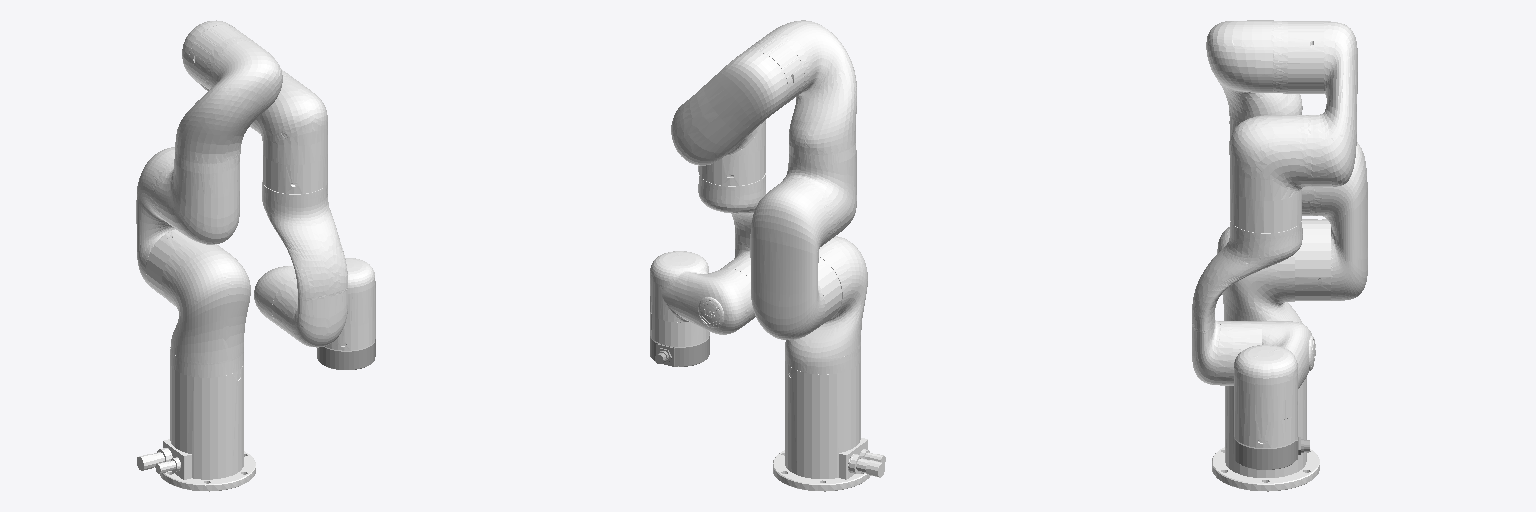
URDF robot description (xarm6):
<?xml version="1.0" encoding="utf-8"?>
<!-- =================================================================================== -->
<!-- |    This document was autogenerated by xacro from xarm6_robot.urdf.xacro         | -->
<!-- |    EDITING THIS FILE BY HAND IS NOT RECOMMENDED                                 | -->
<!-- =================================================================================== -->
<robot name="xarm6">
  <!--
  Author: Jason Peng <[email redacted]>
  Contributers:
-->
  <link name="world"/>
  <joint name="world_joint" type="fixed">
    <parent link="world"/>
    <child link="link_base"/>
    <origin rpy="0 0 0" xyz="0 0 0"/>
  </joint>
  <material name="Black">
    <color rgba="0.0 0.0 0.0 1.0"/>
  </material>
  <material name="Red">
    <color rgba="0.8 0.0 0.0 1.0"/>
  </material>
  <material name="White">
    <color rgba="1.0 1.0 1.0 1.0"/>
  </material>
  <material name="Silver">
    <color rgba="0.753 0.753 0.753 1.0"/>
  </material>
  <link name="link_base">
    <visual>
      <geometry>
        <mesh filename="visual/base.dae"/>
      </geometry>
      <origin rpy="0 0 0" xyz="0 0 0"/>
      <material name="White"/>
    </visual>
    <collision>
      <geometry>
        <mesh filename="collision/base.stl"/>
      </geometry>
      <origin rpy="0 0 0" xyz="0 0 0"/>
    </collision>
    <inertial>
      <origin rpy="0 0 0" xyz="0.0 0.0 0.09103"/>
      <mass value="2.7"/>
      <inertia ixx="0.00494875" ixy="-3.5E-06" ixz="1.25E-05" iyy="0.00494174" iyz="1.67E-06" izz="0.002219"/>
    </inertial>
  </link>
  <link name="link1">
    <visual>
      <geometry>
        <mesh filename="visual/link1.dae"/>
      </geometry>
      <origin rpy="0 0 0" xyz="0 0 0"/>
      <material name="White"/>
    </visual>
    <collision>
      <geometry>
        <mesh filename="collision/link1.stl"/>
      </geometry>
      <origin rpy="0 0 0" xyz="0 0 0"/>
    </collision>
    <inertial>
      <origin rpy="0 0 0" xyz="-0.002 0.02692 -0.01332"/>
      <mass value="2.16"/>
      <inertia ixx="0.00539427" ixy="1.095E-05" ixz="1.635E-06" iyy="0.0048979" iyz="0.000793" izz="0.00311573"/>
    </inertial>
  </link>
  <joint name="joint1" type="revolute">
    <parent link="link_base"/>
    <child link="link1"/>
    <origin rpy="0 0 0" xyz="0 0 0.267"/>
    <axis xyz="0 0 1"/>
    <limit effort="50.0" lower="-6.28318530718" upper="6.28318530718" velocity="3.14"/>
    <dynamics damping="1.0" friction="1.0"/>
  </joint>
  <link name="link2">
    <visual>
      <geometry>
        <mesh filename="visual/link2.dae"/>
      </geometry>
      <origin rpy="0 0 0" xyz="0 0 0"/>
      <material name="White"/>
    </visual>
    <collision>
      <geometry>
        <mesh filename="collision/link2.stl"/>
      </geometry>
      <origin rpy="0 0 0" xyz="0 0 0"/>
    </collision>
    <inertial>
      <origin rpy="0 0 0" xyz="0.03531 -0.21398 0.03386"/>
      <mass value="1.71"/>
      <inertia ixx="0.0248674" ixy="-0.00430651" ixz="-0.00067797" iyy="0.00485548" iyz="0.00457245" izz="0.02387827"/>
    </inertial>
  </link>
  <joint name="joint2" type="revolute">
    <parent link="link1"/>
    <child link="link2"/>
    <origin rpy="-1.5708 0 0" xyz="0 0 0"/>
    <axis xyz="0 0 1"/>
    <limit effort="50.0" lower="-2.059" upper="2.0944" velocity="3.14"/>
    <dynamics damping="1.0" friction="1.0"/>
  </joint>
  <link name="link3">
    <visual>
      <geometry>
        <mesh filename="visual/link3.dae"/>
      </geometry>
      <origin rpy="0 0 0" xyz="0 0 0"/>
      <material name="White"/>
    </visual>
    <collision>
      <geometry>
        <mesh filename="collision/link3.stl"/>
      </geometry>
      <origin rpy="0 0 0" xyz="0 0 0"/>
    </collision>
    <inertial>
      <origin rpy="0 0 0" xyz="0.06781 0.10749 0.01457"/>
      <mass value="1.384"/>
      <inertia ixx="0.0053694" ixy="0.0014185" ixz="-0.00092094" iyy="0.0032423" iyz="-0.00169178" izz="0.00501731"/>
    </inertial>
  </link>
  <joint name="joint3" type="revolute">
    <parent link="link2"/>
    <child link="link3"/>
    <origin rpy="0 0 0" xyz="0.0535 -0.2845 0"/>
    <axis xyz="0 0 1"/>
    <limit effort="32.0" lower="-3.927" upper="0.19198" velocity="3.14"/>
    <dynamics damping="1.0" friction="1.0"/>
  </joint>
  <link name="link4">
    <visual>
      <geometry>
        <mesh filename="visual/link4.dae"/>
      </geometry>
      <origin rpy="0 0 0" xyz="0 0 0"/>
      <material name="White"/>
    </visual>
    <collision>
      <geometry>
        <mesh filename="collision/link4.stl"/>
      </geometry>
      <origin rpy="0 0 0" xyz="0 0 0"/>
    </collision>
    <inertial>
      <origin rpy="0 0 0" xyz="-0.00021 0.02578 -0.02538"/>
      <mass value="1.115"/>
      <inertia ixx="0.00439263" ixy="5.028E-05" ixz="1.374E-05" iyy="0.0040077" iyz="0.00045338" izz="0.00110321"/>
    </inertial>
  </link>
  <joint name="joint4" type="revolute">
    <parent link="link3"/>
    <child link="link4"/>
    <origin rpy="-1.5708 0 0" xyz="0.0775 0.3425 0"/>
    <axis xyz="0 0 1"/>
    <limit effort="32.0" lower="-6.28318530718" upper="6.28318530718" velocity="3.14"/>
    <dynamics damping="1.0" friction="1.0"/>
  </joint>
  <link name="link5">
    <visual>
      <geometry>
        <mesh filename="visual/link5.dae"/>
      </geometry>
      <origin rpy="0 0 0" xyz="0 0 0"/>
      <material name="White"/>
    </visual>
    <collision>
      <geometry>
        <mesh filename="collision/link5.stl"/>
      </geometry>
      <origin rpy="0 0 0" xyz="0 0 0"/>
    </collision>
    <inertial>
      <origin rpy="0 0 0" xyz="0.05428 0.01781 0.00543"/>
      <mass value="1.275"/>
      <inertia ixx="0.001202758" ixy="0.000492428" ixz="-0.00039147" iyy="0.0022876" iyz="-1.235E-04" izz="0.0026866"/>
    </inertial>
  </link>
  <joint name="joint5" type="revolute">
    <parent link="link4"/>
    <child link="link5"/>
    <origin rpy="1.5708 0 0" xyz="0 0 0"/>
    <axis xyz="0 0 1"/>
    <limit effort="32.0" lower="-1.69297" upper="3.14159265359" velocity="3.14"/>
    <dynamics damping="1.0" friction="1.0"/>
  </joint>
  <link name="link6">
    <visual>
      <geometry>
        <mesh filename="visual/link6.dae"/>
      </geometry>
      <origin rpy="0 0 0" xyz="0 0 0"/>
      <material name="Silver"/>
    </visual>
    <collision>
      <geometry>
        <mesh filename="collision/link6.stl"/>
      </geometry>
      <origin rpy="0 0 0" xyz="0 0 0"/>
    </collision>
    <inertial>
      <origin rpy="0 0 0" xyz="0 0.00064 -0.00952"/>
      <mass value="0.1096"/>
      <inertia ixx="4.5293E-05" ixy="0" ixz="0" iyy="4.8111E-05" iyz="0" izz="7.9715E-05"/>
    </inertial>
  </link>
  <joint name="joint6" type="revolute">
    <parent link="link5"/>
    <child link="link6"/>
    <origin rpy="-1.5708 0 0" xyz="0.076 0.097 0"/>
    <axis xyz="0 0 1"/>
    <limit effort="20.0" lower="-6.28318530718" upper="6.28318530718" velocity="3.14"/>
    <dynamics damping="1.0" friction="1.0"/>
  </joint>
  <link name="link_eef"/>
  <joint name="joint_eef" type="fixed">
    <origin rpy="0 0 0" xyz="0 0 0"/>
    <parent link="link6"/>
    <child link="link_eef"/>
  </joint>
  <transmission name="tran1">
    <type>transmission_interface/SimpleTransmission</type>
    <joint name="joint1">
      <hardwareInterface>hardware_interface/PositionJointInterface</hardwareInterface>
    </joint>
    <actuator name="motor1">
      <hardwareInterface>hardware_interface/PositionJointInterface</hardwareInterface>
      <mechanicalReduction>100</mechanicalReduction>
    </actuator>
  </transmission>
  <transmission name="tran2">
    <type>transmission_interface/SimpleTransmission</type>
    <joint name="joint2">
      <hardwareInterface>hardware_interface/PositionJointInterface</hardwareInterface>
    </joint>
    <actuator name="motor2">
      <hardwareInterface>hardware_interface/PositionJointInterface</hardwareInterface>
      <mechanicalReduction>100</mechanicalReduction>
    </actuator>
  </transmission>
  <transmission name="tran3">
    <type>transmission_interface/SimpleTransmission</type>
    <joint name="joint3">
      <hardwareInterface>hardware_interface/PositionJointInterface</hardwareInterface>
    </joint>
    <actuator name="motor3">
      <hardwareInterface>hardware_interface/PositionJointInterface</hardwareInterface>
      <mechanicalReduction>100</mechanicalReduction>
    </actuator>
  </transmission>
  <transmission name="tran4">
    <type>transmission_interface/SimpleTransmission</type>
    <joint name="joint4">
      <hardwareInterface>hardware_interface/PositionJointInterface</hardwareInterface>
    </joint>
    <actuator name="motor3">
      <hardwareInterface>hardware_interface/PositionJointInterface</hardwareInterface>
      <mechanicalReduction>100</mechanicalReduction>
    </actuator>
  </transmission>
  <transmission name="tran5">
    <type>transmission_interface/SimpleTransmission</type>
    <joint name="joint5">
      <hardwareInterface>hardware_interface/PositionJointInterface</hardwareInterface>
    </joint>
    <actuator name="motor5">
      <hardwareInterface>hardware_interface/PositionJointInterface</hardwareInterface>
      <mechanicalReduction>100</mechanicalReduction>
    </actuator>
  </transmission>
  <transmission name="tran6">
    <type>transmission_interface/SimpleTransmission</type>
    <joint name="joint6">
      <hardwareInterface>hardware_interface/PositionJointInterface</hardwareInterface>
    </joint>
    <actuator name="motor6">
      <hardwareInterface>hardware_interface/PositionJointInterface</hardwareInterface>
      <mechanicalReduction>100</mechanicalReduction>
    </actuator>
  </transmission>
  <gazebo reference="link_base">
    <selfCollide>true</selfCollide>
  </gazebo>
  <gazebo reference="link1">
    <selfCollide>true</selfCollide>
  </gazebo>
  <gazebo reference="link2">
    <selfCollide>true</selfCollide>
  </gazebo>
  <gazebo reference="link3">
    <selfCollide>true</selfCollide>
  </gazebo>
  <gazebo reference="link4">
    <selfCollide>true</selfCollide>
  </gazebo>
  <gazebo reference="link5">
    <selfCollide>true</selfCollide>
  </gazebo>
  <gazebo reference="link6">
    <selfCollide>true</selfCollide>
  </gazebo>
</robot>

--- What the picture shows (computed from the rendered views, not written in the file) ---
3 views of the same robot in one strip: view 1: azimuth 30°, elevation 25°; view 2: azimuth 150°, elevation 25°; view 3: azimuth 270°, elevation 25° (orthographic).
Model xarm6 with 9 links and 8 joints (6 revolute, 2 fixed), rooted at world, posed all joints at 0.
Visible links, largest first — view 1: link2, link1, link_base, link4, link3, link5, link6; view 2: link2, link3, link_base, link5, link1, link4, link6; view 3: link2, link3, link5, link4, link1, link_base, link6.
Boxes of the visible links, box(x1,y1,x2,y2) form: link2: box(136, 25, 282, 288); link1: box(146, 229, 250, 377); link_base: box(137, 364, 255, 491); link4: box(262, 180, 347, 347); link3: box(182, 20, 327, 193); link5: box(254, 258, 375, 350); link6: box(317, 339, 375, 369); link2: box(743, 20, 856, 339); link3: box(671, 51, 787, 185); link_base: box(773, 361, 885, 491); link5: box(650, 251, 754, 346); link1: box(785, 236, 867, 374); link4: box(698, 173, 765, 316); link6: box(650, 335, 709, 366); link2: box(1206, 20, 1367, 300); link3: box(1230, 21, 1357, 232); link5: box(1234, 321, 1315, 447); link4: box(1192, 221, 1302, 385); link1: box(1217, 219, 1330, 323); link_base: box(1212, 377, 1319, 491); link6: box(1234, 437, 1309, 469).
Size in the robot's own frame: 0.3368 by 0.2052 by 0.5944 metres.
Meshes: 7 distinct files referenced, 7 mesh visuals loaded (7 Collada DAE).
